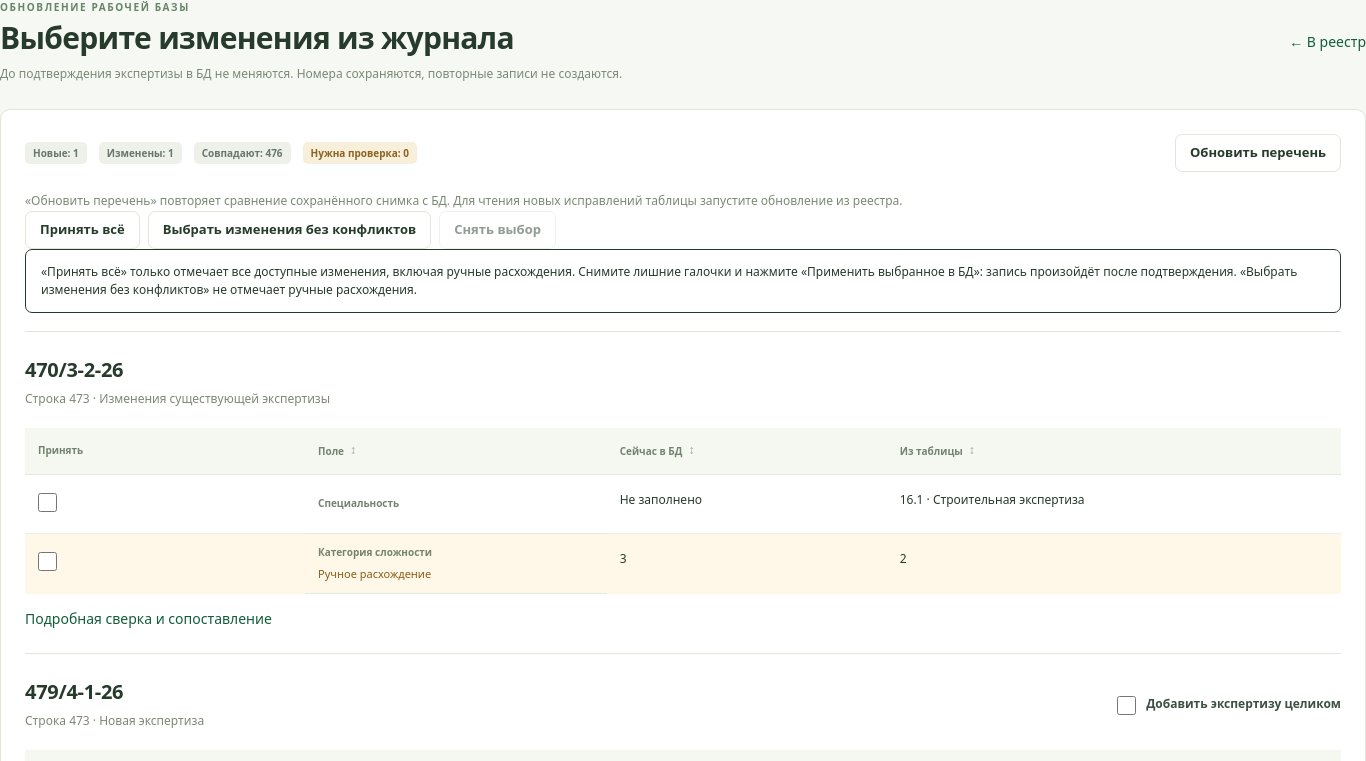
Test: accept-all permits deselecting fields and new rows before confirming only the remaining changes
This screenshot has width=1366, height=761.
Step 1. Click the button "Принять всё" → (82, 230), box x1=25 y1=211 x2=140 y2=249
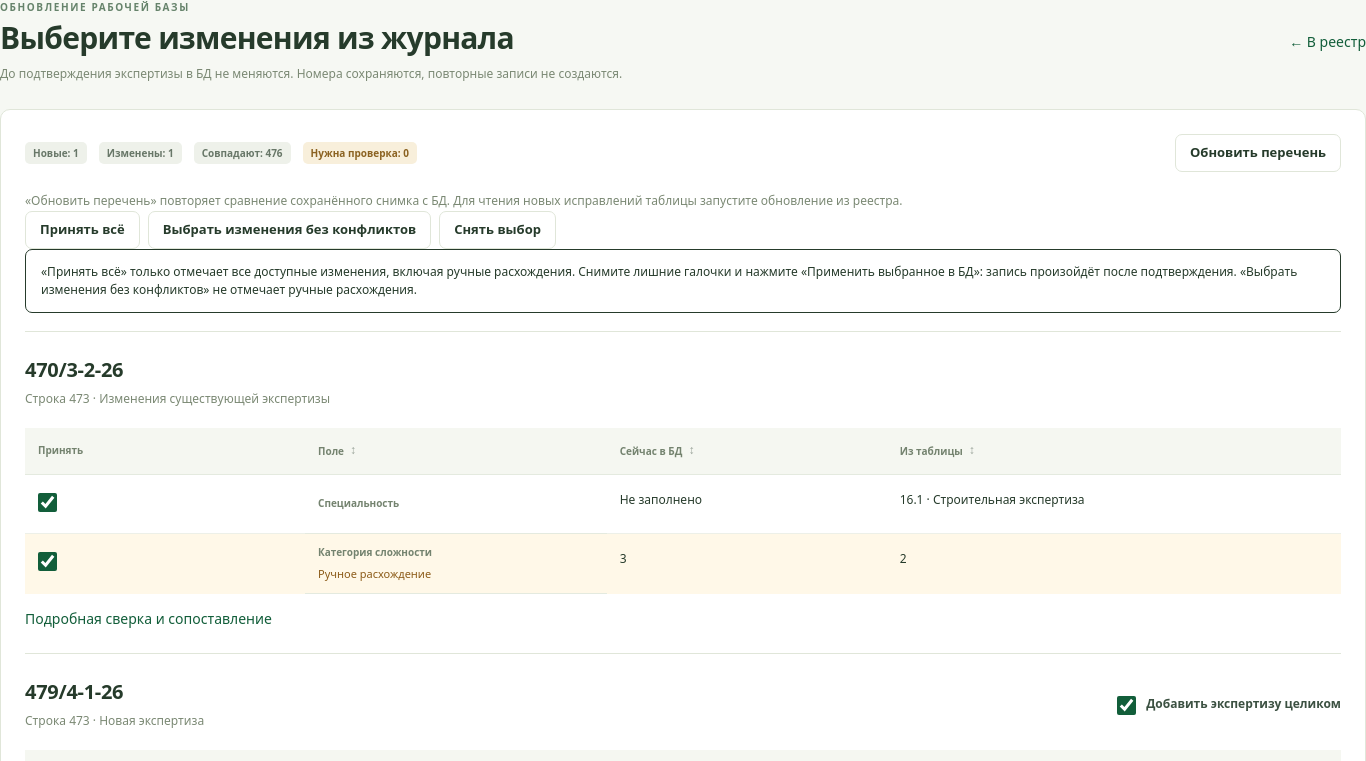
Step 2. Click the checkbox named "Принять Специальность для 470/3-2-26" → (48, 502), box x1=38 y1=493 x2=57 y2=512
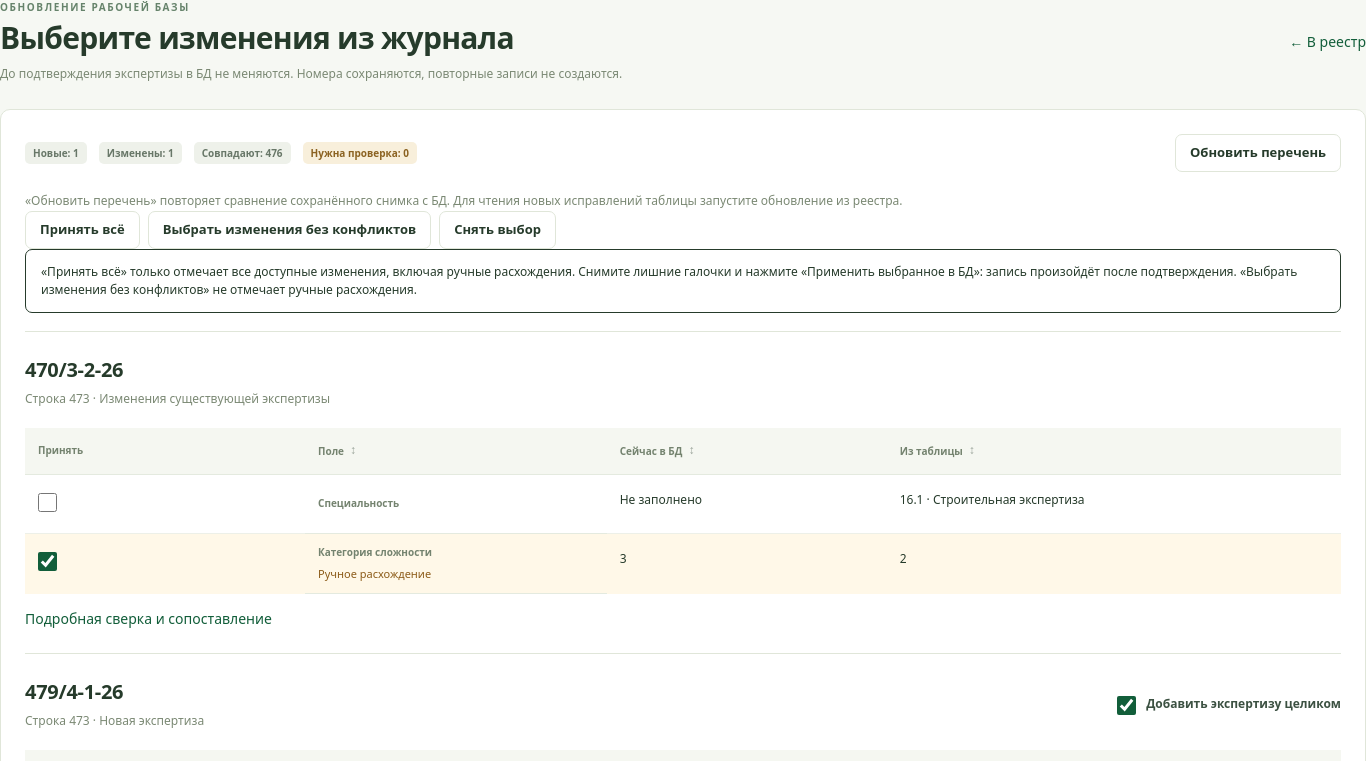
Step 3. Click the checkbox labelled "Добавить экспертизу целиком" → (1127, 706), box x1=1117 y1=696 x2=1136 y2=715
(page scrolled)
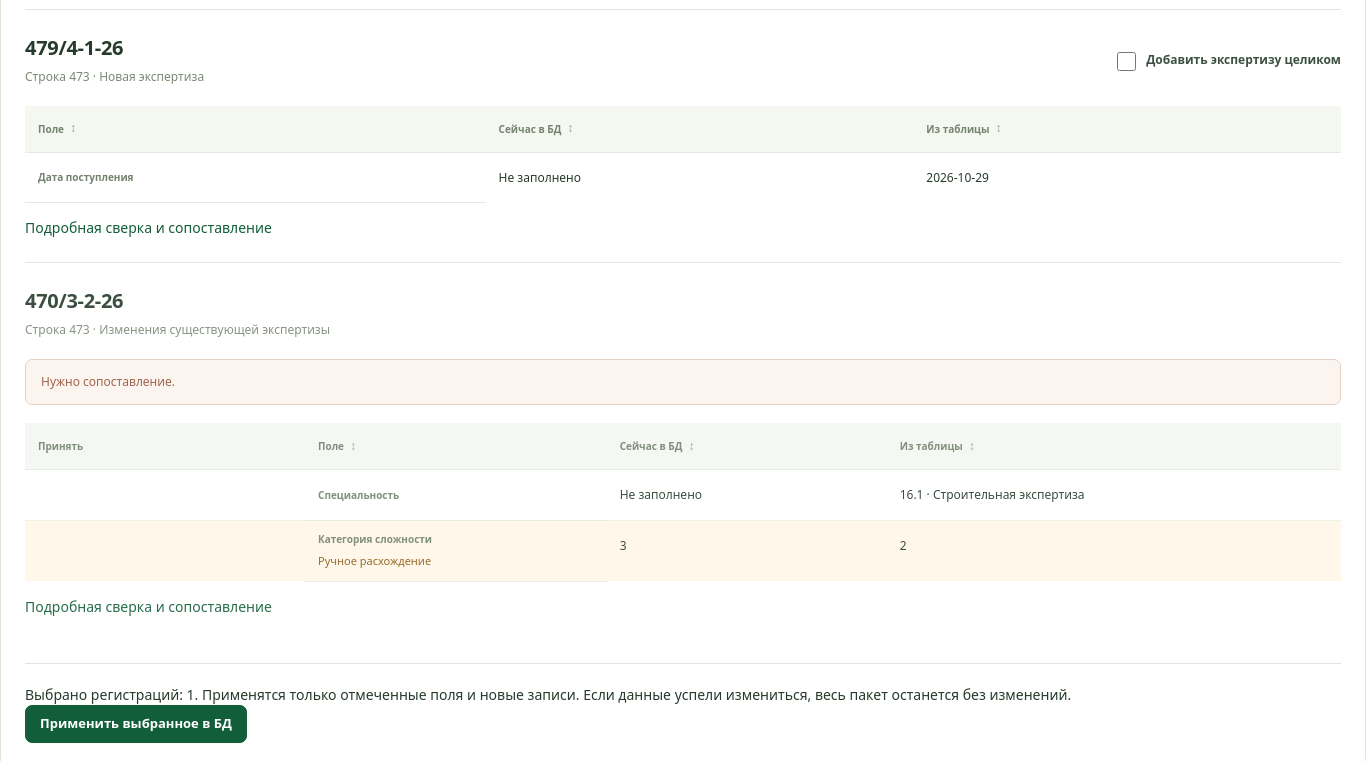
Step 4. Click the button "Применить выбранное в БД" → (136, 724), box x1=25 y1=705 x2=247 y2=743
(page scrolled)
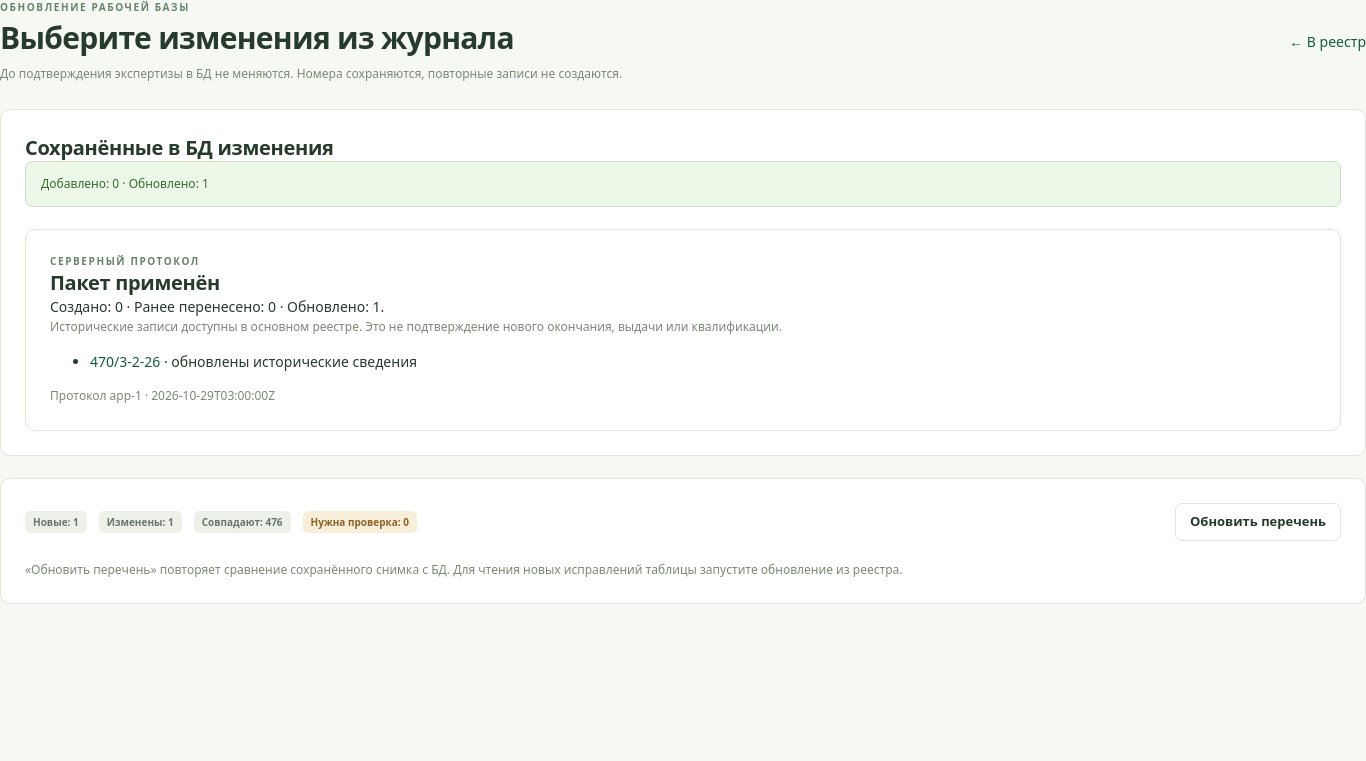
Expected: the text "Добавлено: 0 · Обновлено: 1" is shown, x1=25 y1=161 x2=1341 y2=207
